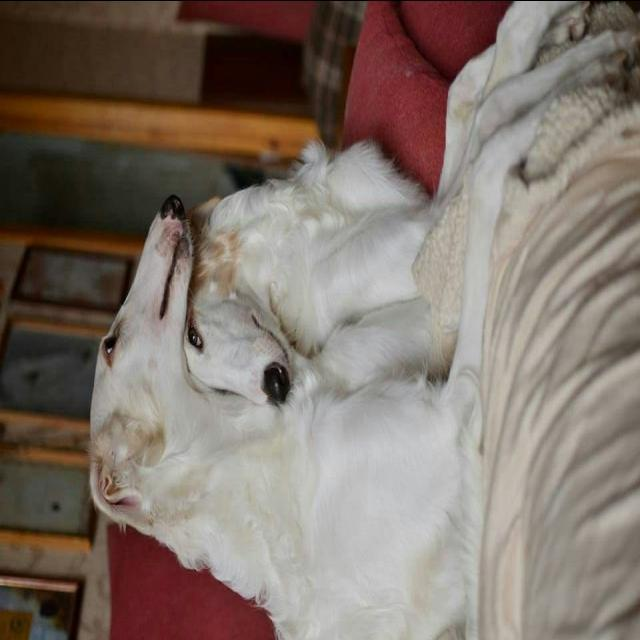Dogs: (81, 23, 640, 633), (155, 10, 637, 640)
